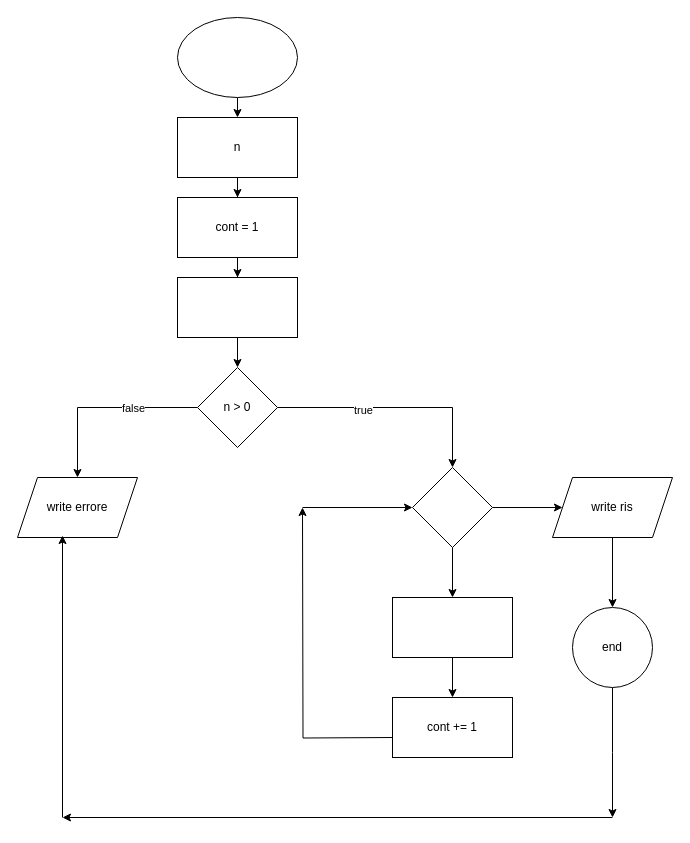
This 690x843 diagram has some shape labels left out. The shapes that lost their labels are listed below. From the top down, each one's box as (x1, y1, x2, y2) in pixels, then its label:
(176, 16, 298, 98): start
(176, 276, 298, 338): ris = 0
(412, 466, 492, 548): cont <= n
(392, 596, 512, 658): ris = ris + ( cont * cont)
